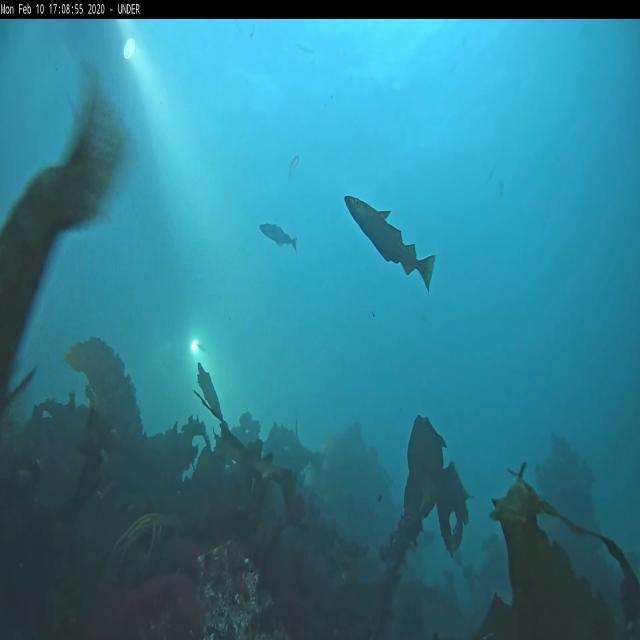fish: (0, 64, 140, 415), (345, 195, 435, 292), (259, 222, 298, 254), (286, 153, 300, 182)
